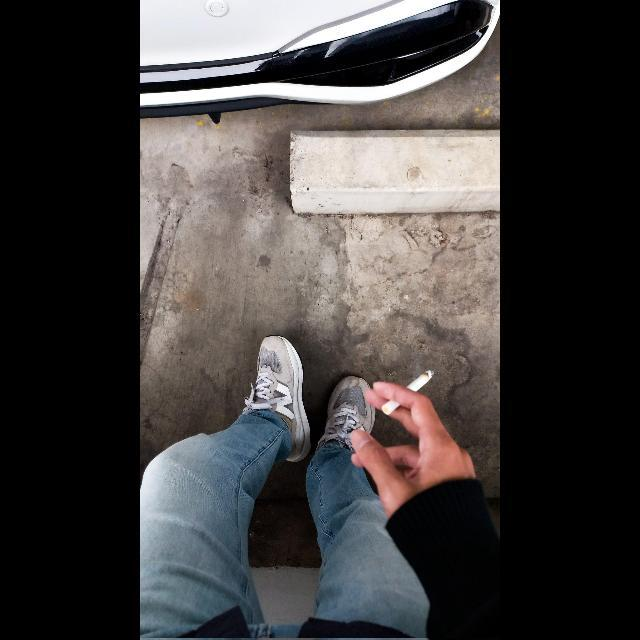rokok: (384, 369, 438, 421)
